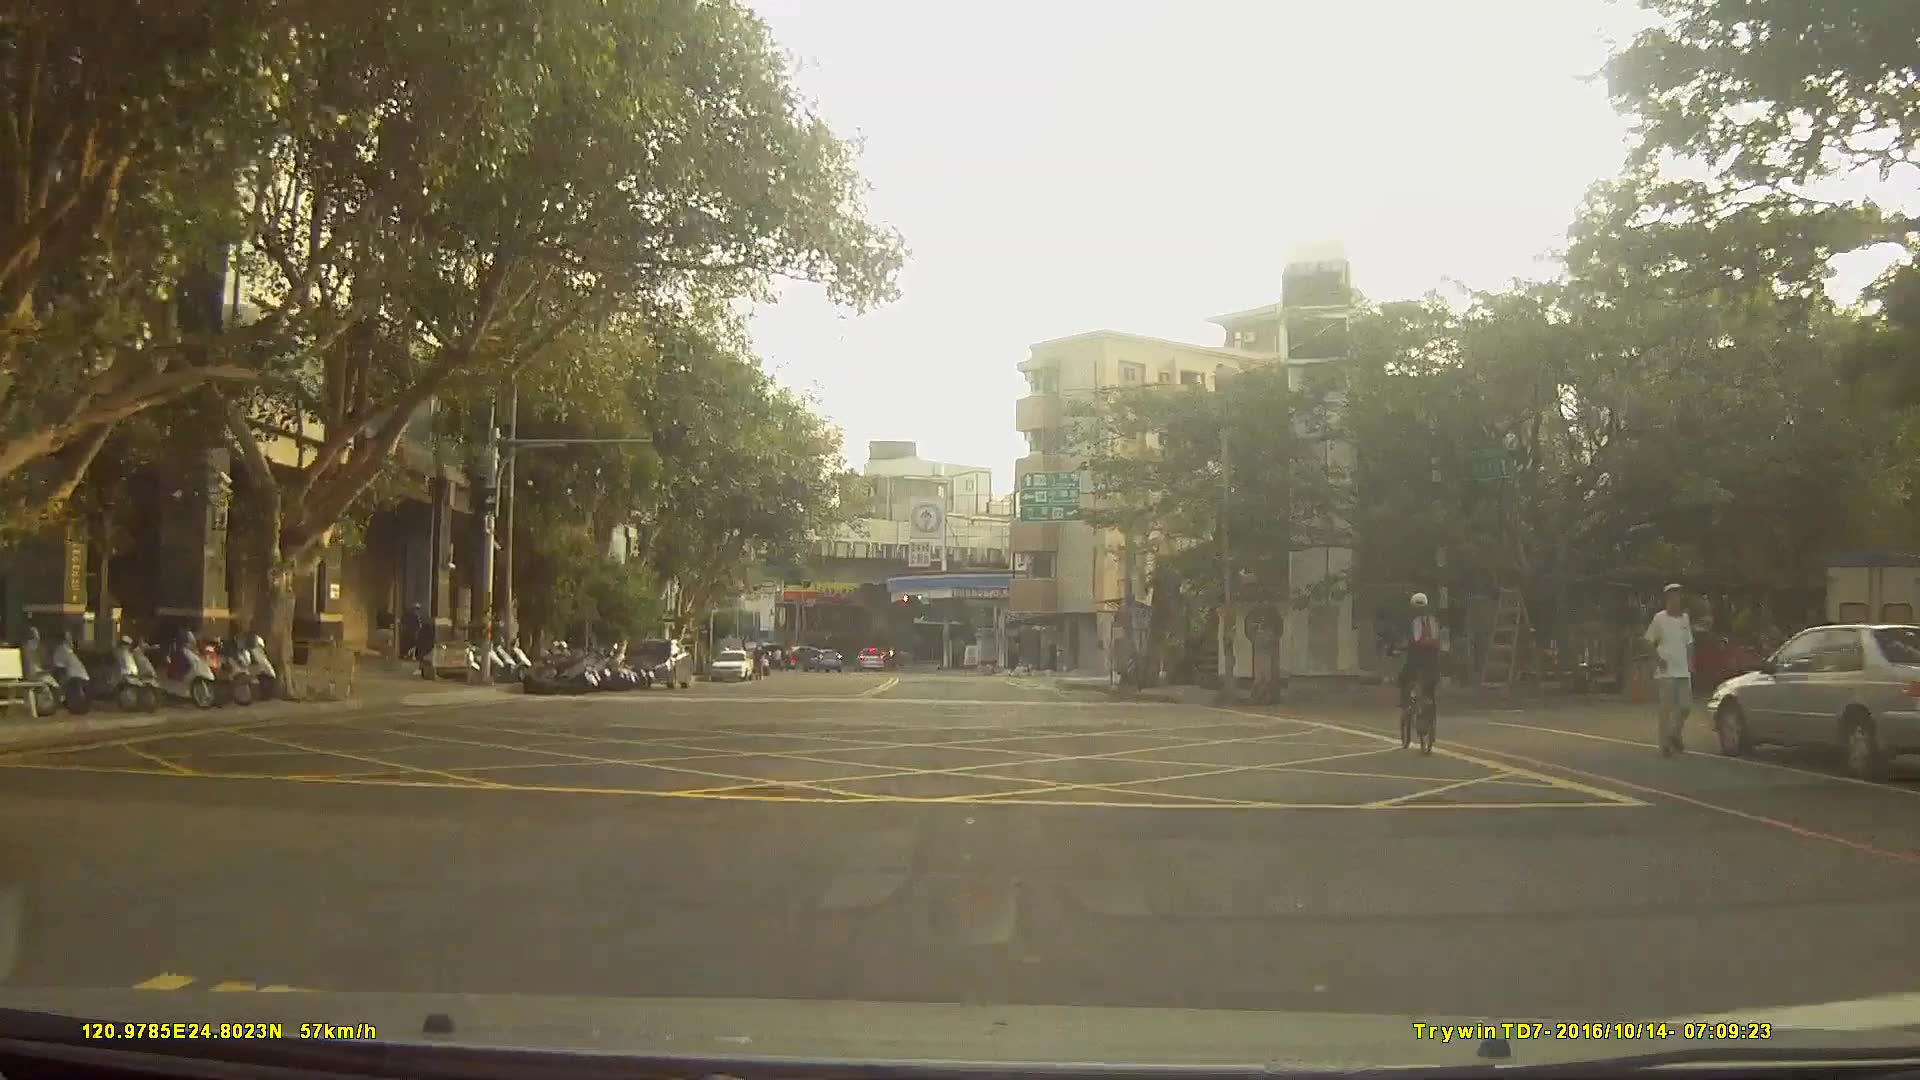pedestrian: (1641, 582, 1707, 761), (375, 600, 397, 660)
rider: (1387, 592, 1448, 751)
vehicle: (1709, 623, 1920, 778), (623, 638, 690, 691), (707, 647, 751, 682), (801, 646, 841, 672), (852, 642, 886, 668)
